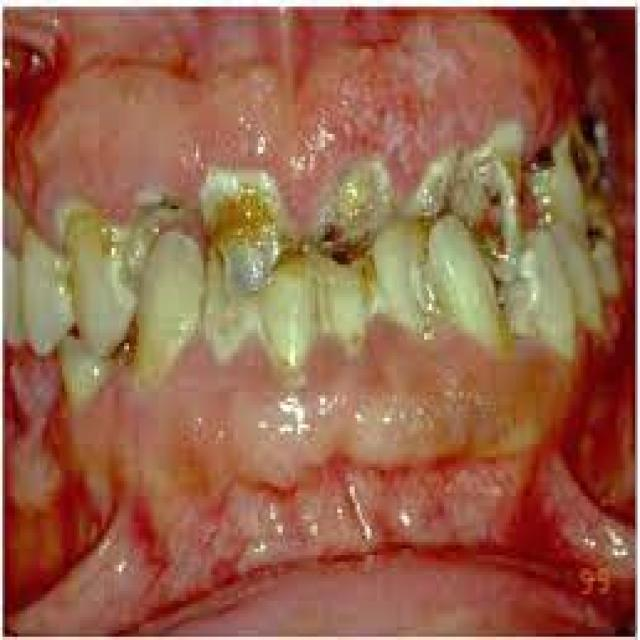caries: (204, 196, 298, 305), (313, 154, 395, 270), (449, 156, 518, 283), (122, 185, 185, 285), (561, 121, 605, 186), (578, 196, 618, 262)
